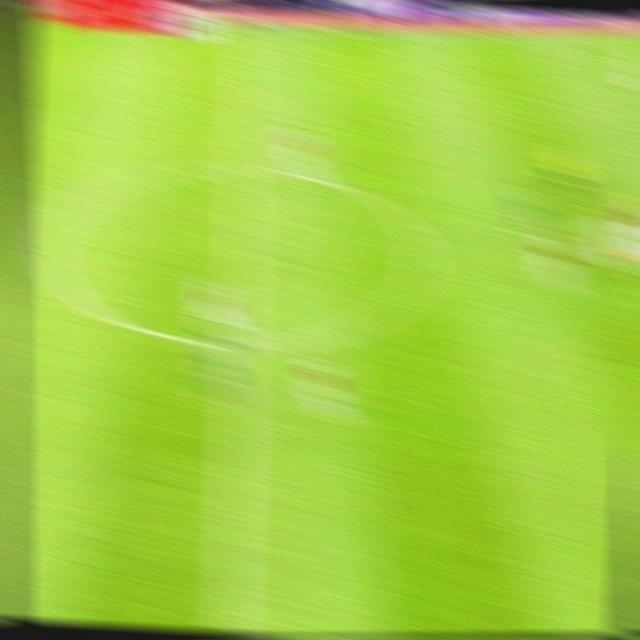halfcircle_bottom: (216, 319, 262, 365)
halfcircle_top: (217, 145, 269, 191)
midline_top_intersection: (225, 6, 267, 47)
